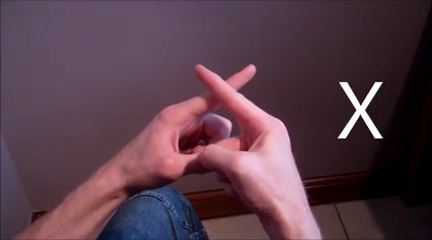X: (126, 54, 310, 195)
